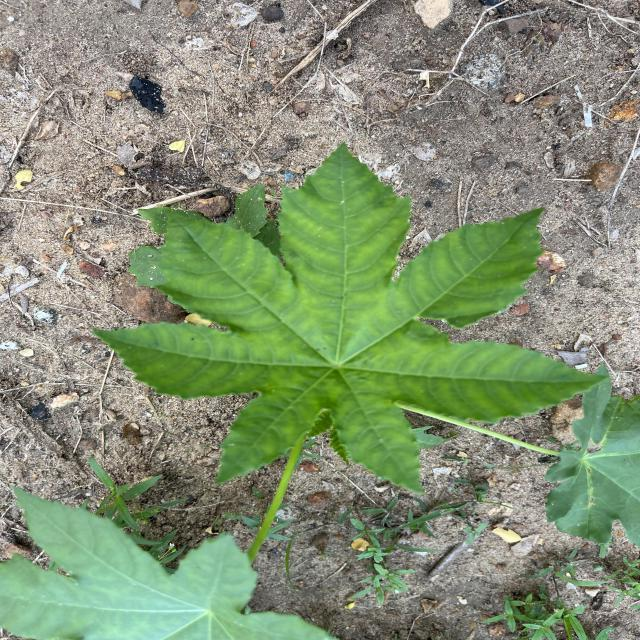Ricinus communis linn: (87, 134, 616, 500)
